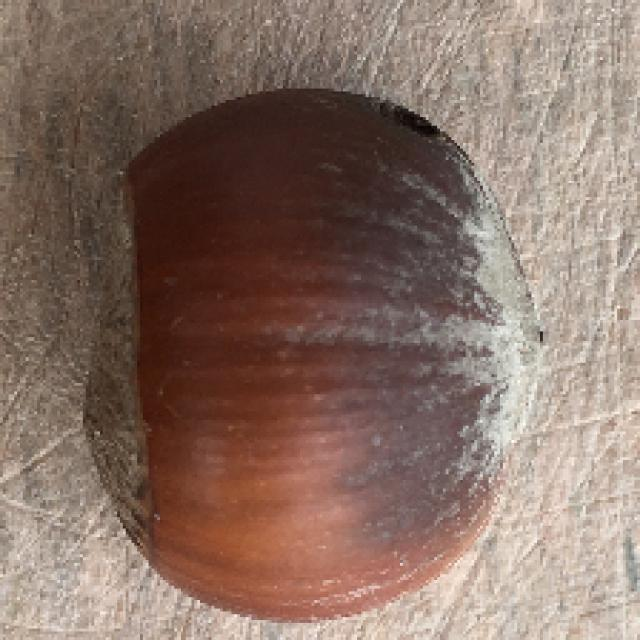DamagedHazelnut: (84, 90, 548, 623)
